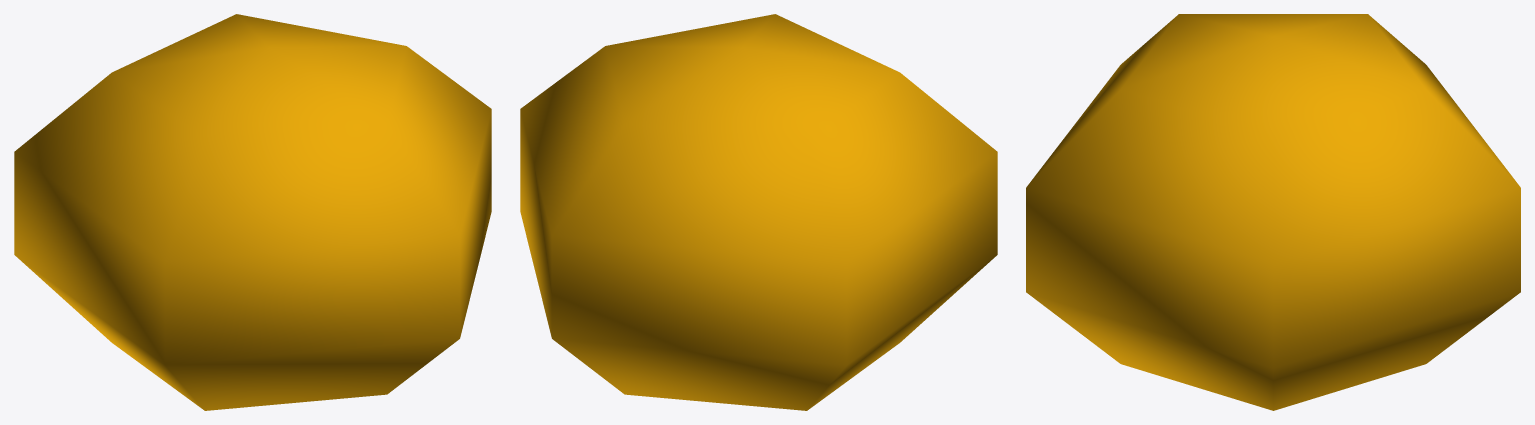
The model's file is mesh_pumpkin_sml.fbx.
3 renders of one model, left to right at view 1: azimuth 30°, elevation 25°; view 2: azimuth 150°, elevation 25°; view 3: azimuth 270°, elevation 25°, orthographic.
Visible parts, largest first — view 1: mesh_pumpkinStatic; view 2: mesh_pumpkinStatic; view 3: mesh_pumpkinStatic.
Boxes of the visible parts, x1,y1,x2,y2 form: mesh_pumpkinStatic: [14, 14, 491, 410]; mesh_pumpkinStatic: [520, 14, 997, 410]; mesh_pumpkinStatic: [1026, 14, 1520, 410].
Size of the model in its own units: 86.02 by 61.83 by 90.45.
